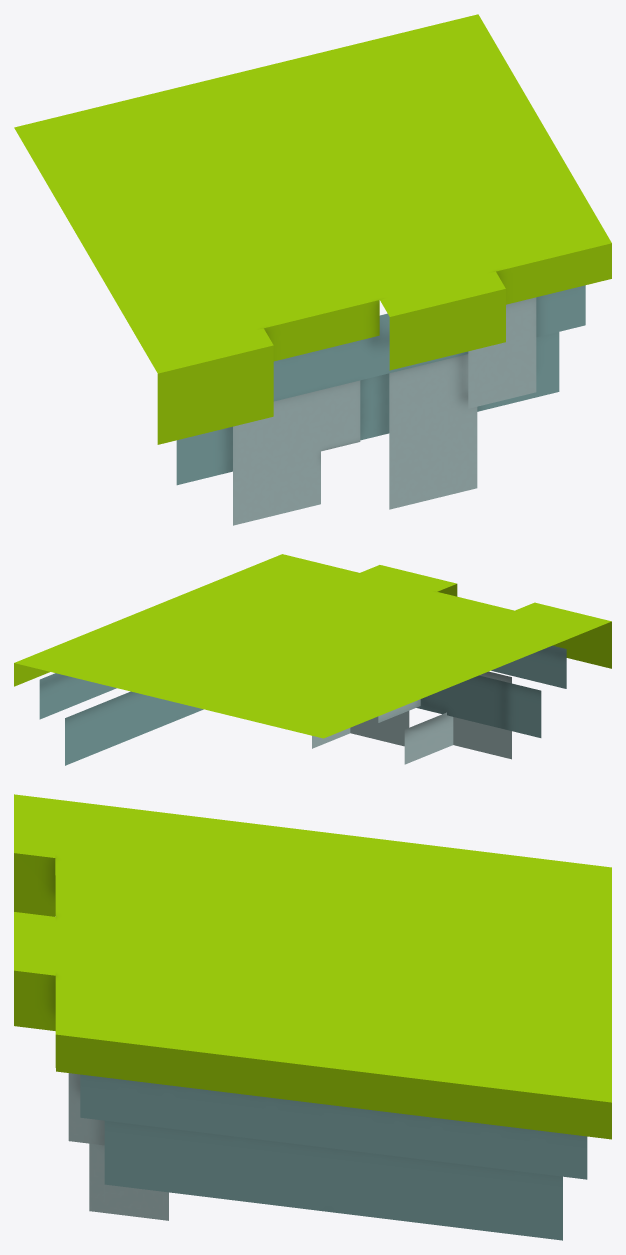
Rendered from Field_Type_01_03.FBX.
3 renders of one model, top to bottom at view 1: azimuth 30°, elevation 25°; view 2: azimuth 150°, elevation 25°; view 3: azimuth 270°, elevation 25°, orthographic. The views are drawn at different scales.
Parts seen in each view (by area): view 1: Field_Type_01_03; view 2: Field_Type_01_03; view 3: Field_Type_01_03.
Boxes of the visible parts, left/top/right/bottom form: Field_Type_01_03: left=14, top=14, right=611, bottom=525; Field_Type_01_03: left=14, top=554, right=611, bottom=765; Field_Type_01_03: left=14, top=794, right=611, bottom=1240.
Bounding box in the file's own units: 28.31 × 10.13 × 23.21.
